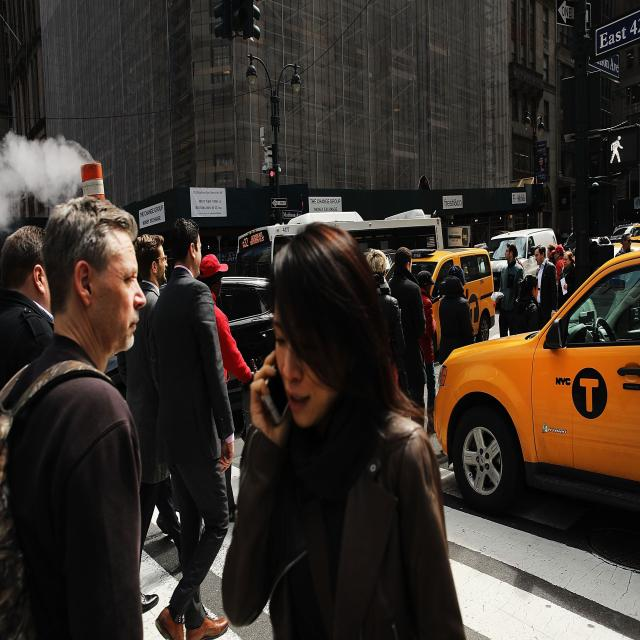body: (218, 218, 476, 640), (0, 191, 149, 640), (145, 213, 238, 640), (116, 230, 186, 616), (198, 254, 255, 524), (0, 224, 57, 395), (386, 244, 428, 428), (363, 247, 412, 401), (436, 263, 476, 366), (416, 269, 436, 435), (135, 532, 183, 600), (493, 242, 524, 339), (533, 244, 559, 331), (510, 273, 542, 337), (557, 250, 575, 346), (432, 447, 462, 495), (613, 232, 636, 283), (552, 244, 566, 288), (608, 134, 624, 166), (514, 247, 526, 280), (536, 155, 548, 179), (546, 243, 557, 265), (555, 228, 562, 246)
